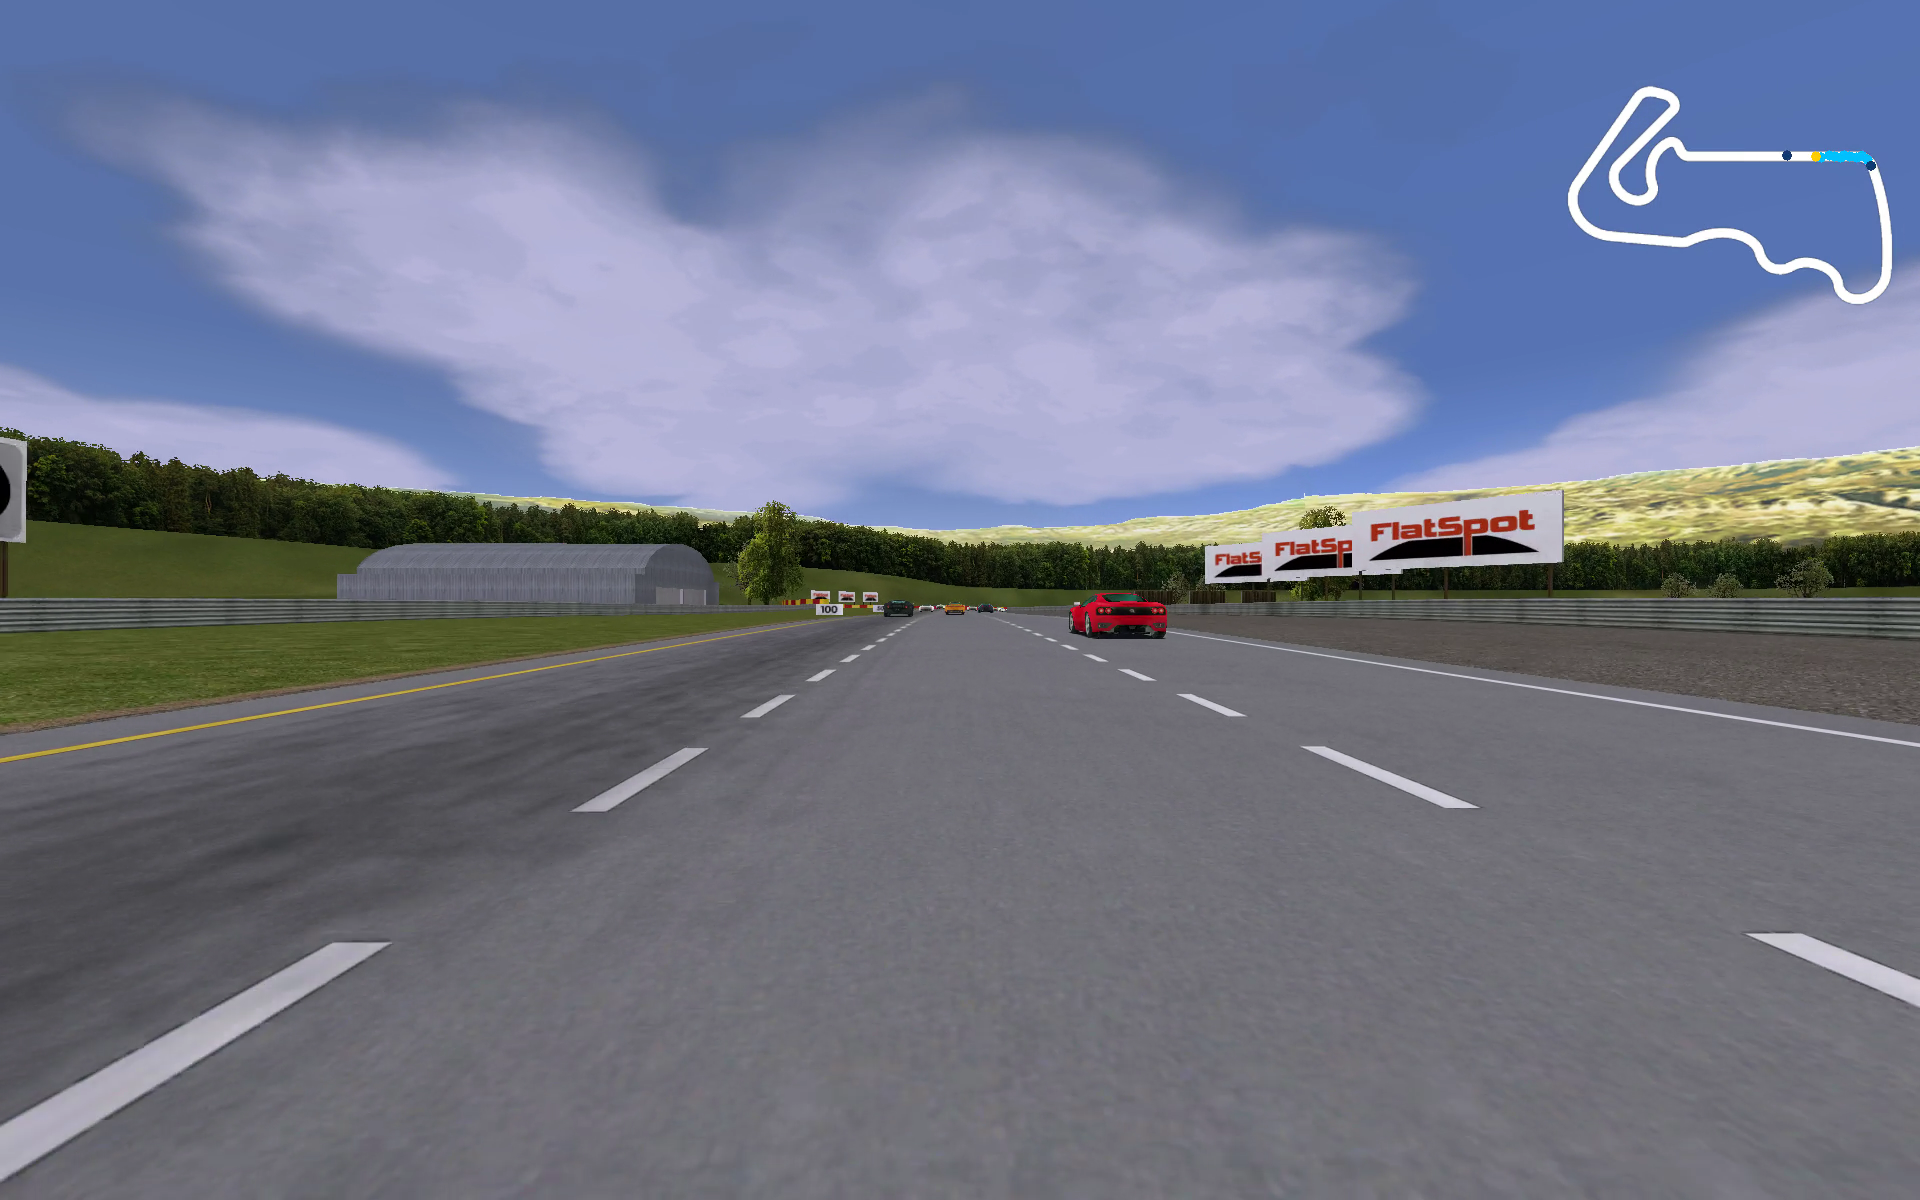car: (1069, 590, 1169, 639), (882, 597, 916, 619), (944, 601, 965, 617), (977, 601, 997, 614), (918, 604, 934, 612)
